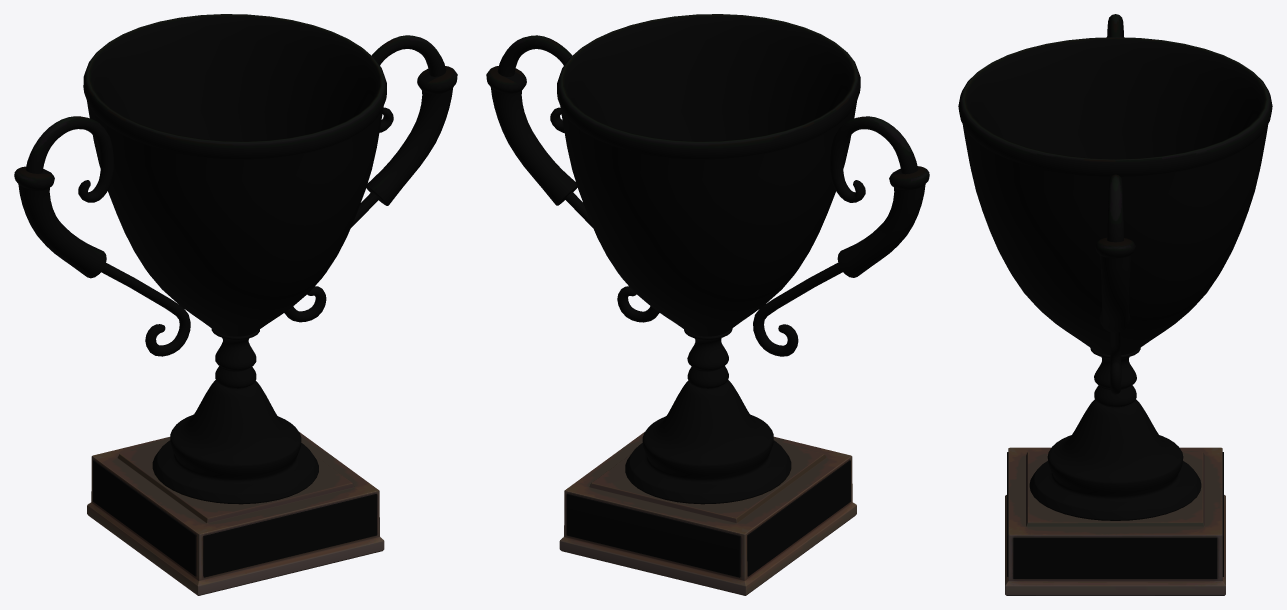
Rendered from trophy.fbx.
The picture shows the model from 3 angles, left to right: view 1: azimuth 30°, elevation 25°; view 2: azimuth 150°, elevation 25°; view 3: azimuth 270°, elevation 25°; orthographic projection.
Visible parts, largest first — view 1: node_id30; view 2: node_id30; view 3: node_id30.
Boxes of the visible parts, left/top/right/bottom form: node_id30: left=14, top=14, right=457, bottom=595; node_id30: left=486, top=14, right=929, bottom=595; node_id30: left=958, top=14, right=1272, bottom=595.
Bounding box in the file's own units: 0.2163 × 0.2154 × 0.1352.
1 material, 1 textured.
